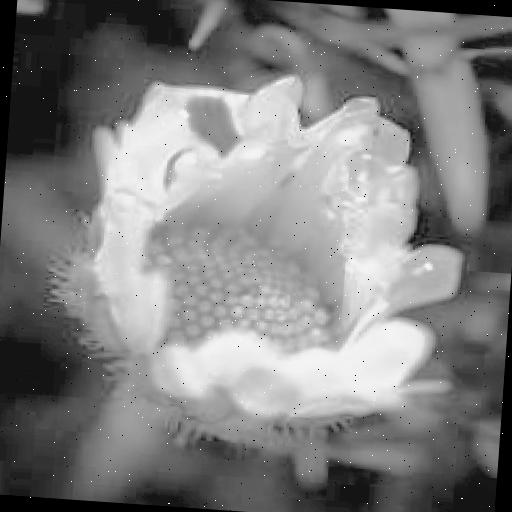daisy: (76, 76, 466, 438)
